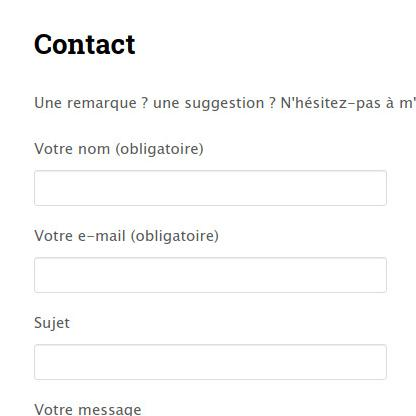field: (32, 168, 388, 209), (30, 343, 390, 381), (33, 256, 389, 294)
field_with_label: (27, 140, 392, 213), (26, 316, 394, 384), (30, 227, 392, 296)
